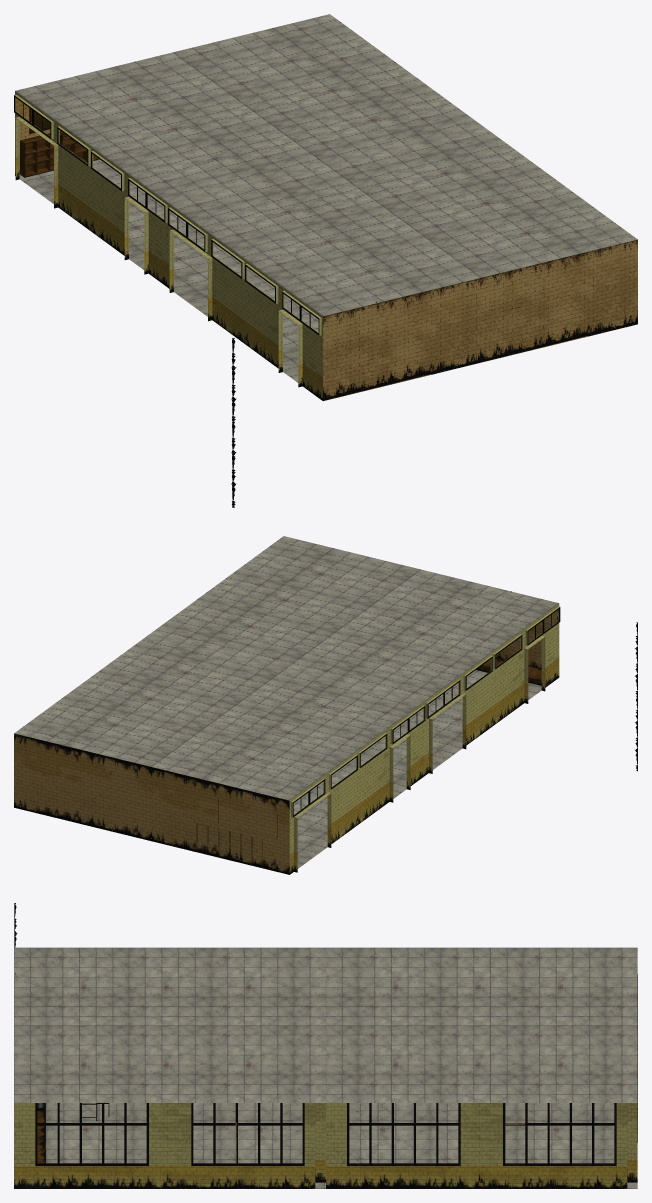
Rendered from Classromm.fbx.
3 renders of one model, top to bottom at view 1: azimuth 30°, elevation 25°; view 2: azimuth 150°, elevation 25°; view 3: azimuth 270°, elevation 25°, orthographic. The views are drawn at different scales.
Parts seen in each view (by area): view 1: Ceiling4, Ceiling1, Ceiling2, Ceiling3, Board_Wall1, Board_Wal2, Wall_Door1, Wall_Door2, Back_Ground, Front_Ground, polySurface536; view 2: Ceiling1, Ceiling4, Ceiling2, Ceiling3, Back_Wall2, Back_Wall1, Wall_Door2, Wall_Door1, Front_Ground, Back_Ground, Board_Wal2, Frames1; view 3: Ceiling1, Ceiling2, Ceiling3, Ceiling4, Back_Ground, Front_Ground, Wall_Window2, Wall_Window3, Frame3, Frame2, Wall_Window_p2, Wall_Window_p (+1 smaller).
Part boxes in pixels (box(x1,y1,x2,y2)): Ceiling4: box(172, 14, 483, 165); Ceiling1: box(15, 52, 325, 203); Ceiling2: box(169, 165, 479, 316); Ceiling3: box(327, 127, 637, 277); Board_Wall1: box(480, 239, 637, 362); Board_Wal2: box(323, 278, 480, 401); Wall_Door1: box(168, 204, 322, 400); Wall_Door2: box(14, 91, 168, 288); Back_Ground: box(19, 159, 241, 279); Front_Ground: box(174, 263, 318, 382); polySurface536: box(20, 130, 99, 177); Ceiling1: box(152, 668, 423, 800); Ceiling4: box(14, 635, 286, 766); Ceiling2: box(287, 569, 558, 701); Ceiling3: box(149, 536, 420, 668); Back_Wall2: box(152, 767, 289, 874); Back_Wall1: box(14, 733, 151, 841); Wall_Door2: box(289, 702, 425, 874); Wall_Door1: box(424, 603, 560, 775); Front_Ground: box(348, 670, 541, 777); Back_Ground: box(293, 764, 406, 868); Board_Wal2: box(496, 610, 558, 668); Frames1: box(293, 707, 424, 815); Ceiling1: box(326, 947, 637, 1025); Ceiling2: box(14, 947, 325, 1025); Ceiling3: box(14, 1025, 325, 1102); Ceiling4: box(326, 1025, 637, 1102); Back_Ground: box(349, 1103, 637, 1188); Front_Ground: box(46, 1103, 325, 1188); Wall_Window2: box(14, 1103, 315, 1188); Wall_Window3: box(326, 1103, 627, 1188); Frame3: box(35, 1103, 304, 1165); Frame2: box(347, 1103, 616, 1165); Wall_Window_p2: box(627, 1103, 637, 1182); Wall_Window_p: box(315, 1103, 325, 1182).
Size of the model in its own units: 563 by 227 by 743.
Materials: 1 (1 with a texture image).
